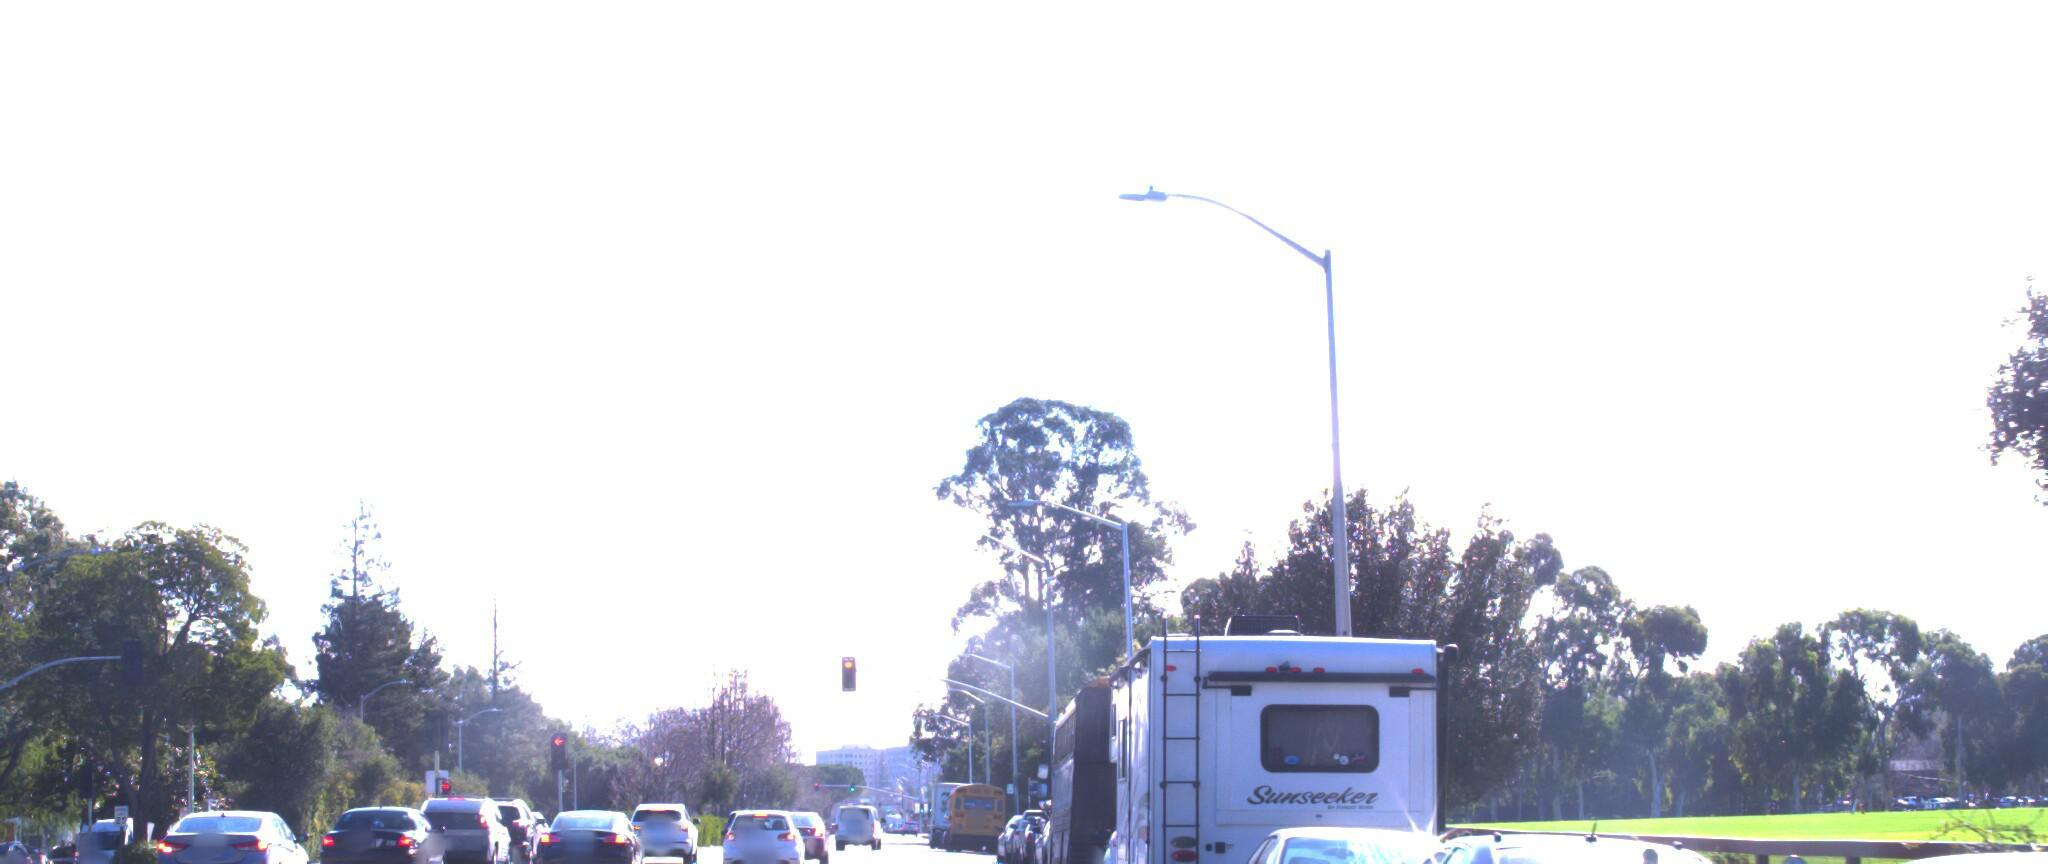bus: (1041, 641, 1260, 864)
car: (1302, 807, 1821, 864), (1580, 820, 2048, 864), (1194, 801, 1502, 864), (142, 779, 317, 864), (317, 775, 461, 861), (404, 766, 526, 859), (528, 778, 644, 860), (720, 778, 811, 851), (619, 767, 704, 838)
motorcycle: (1480, 816, 2048, 864)
other_vehicle: (1095, 569, 1472, 864)
